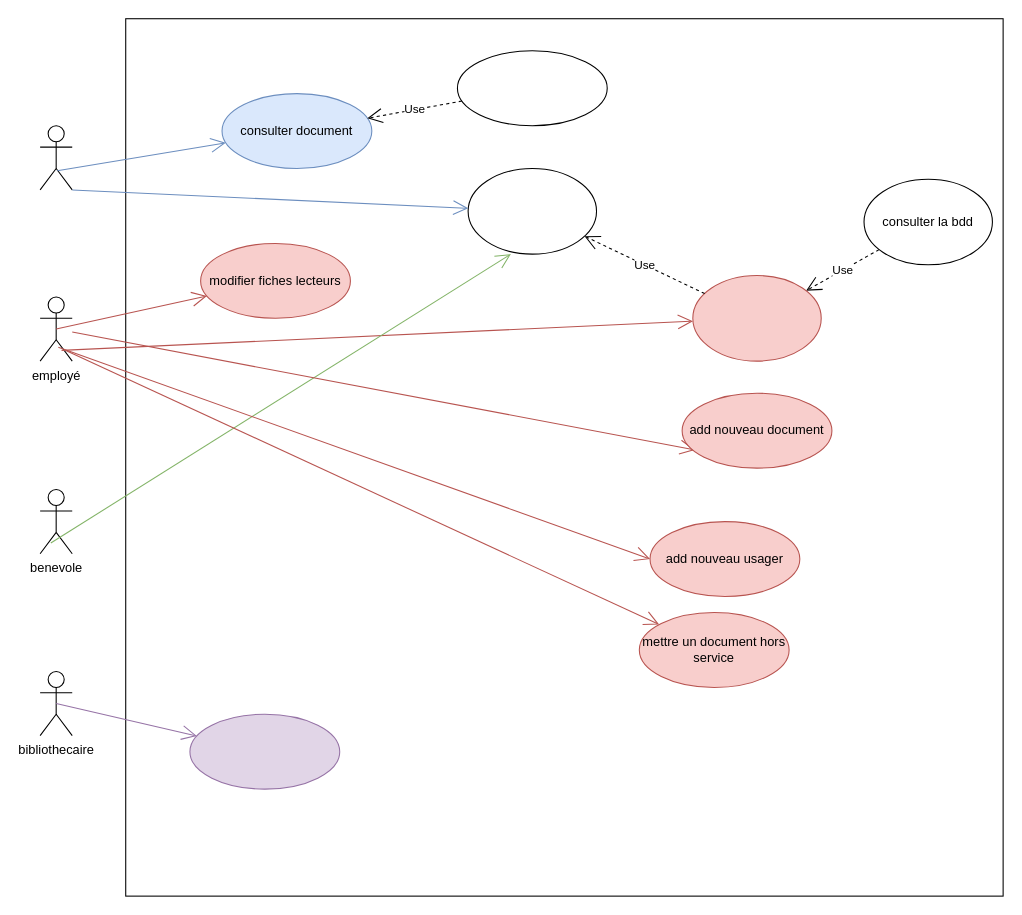
This 1022x915 diagram has some shape labels left out. Each missing label, with the centre of its shape:
"emprunt" belongs at (x=532, y=210).
"relance" belongs at (x=264, y=751).
"usager" belongs at (x=55, y=157).
"vérifier disponibilité" belongs at (x=531, y=88).
"vérifier nombre d'emprunt et cotisation" belongs at (x=756, y=317).
